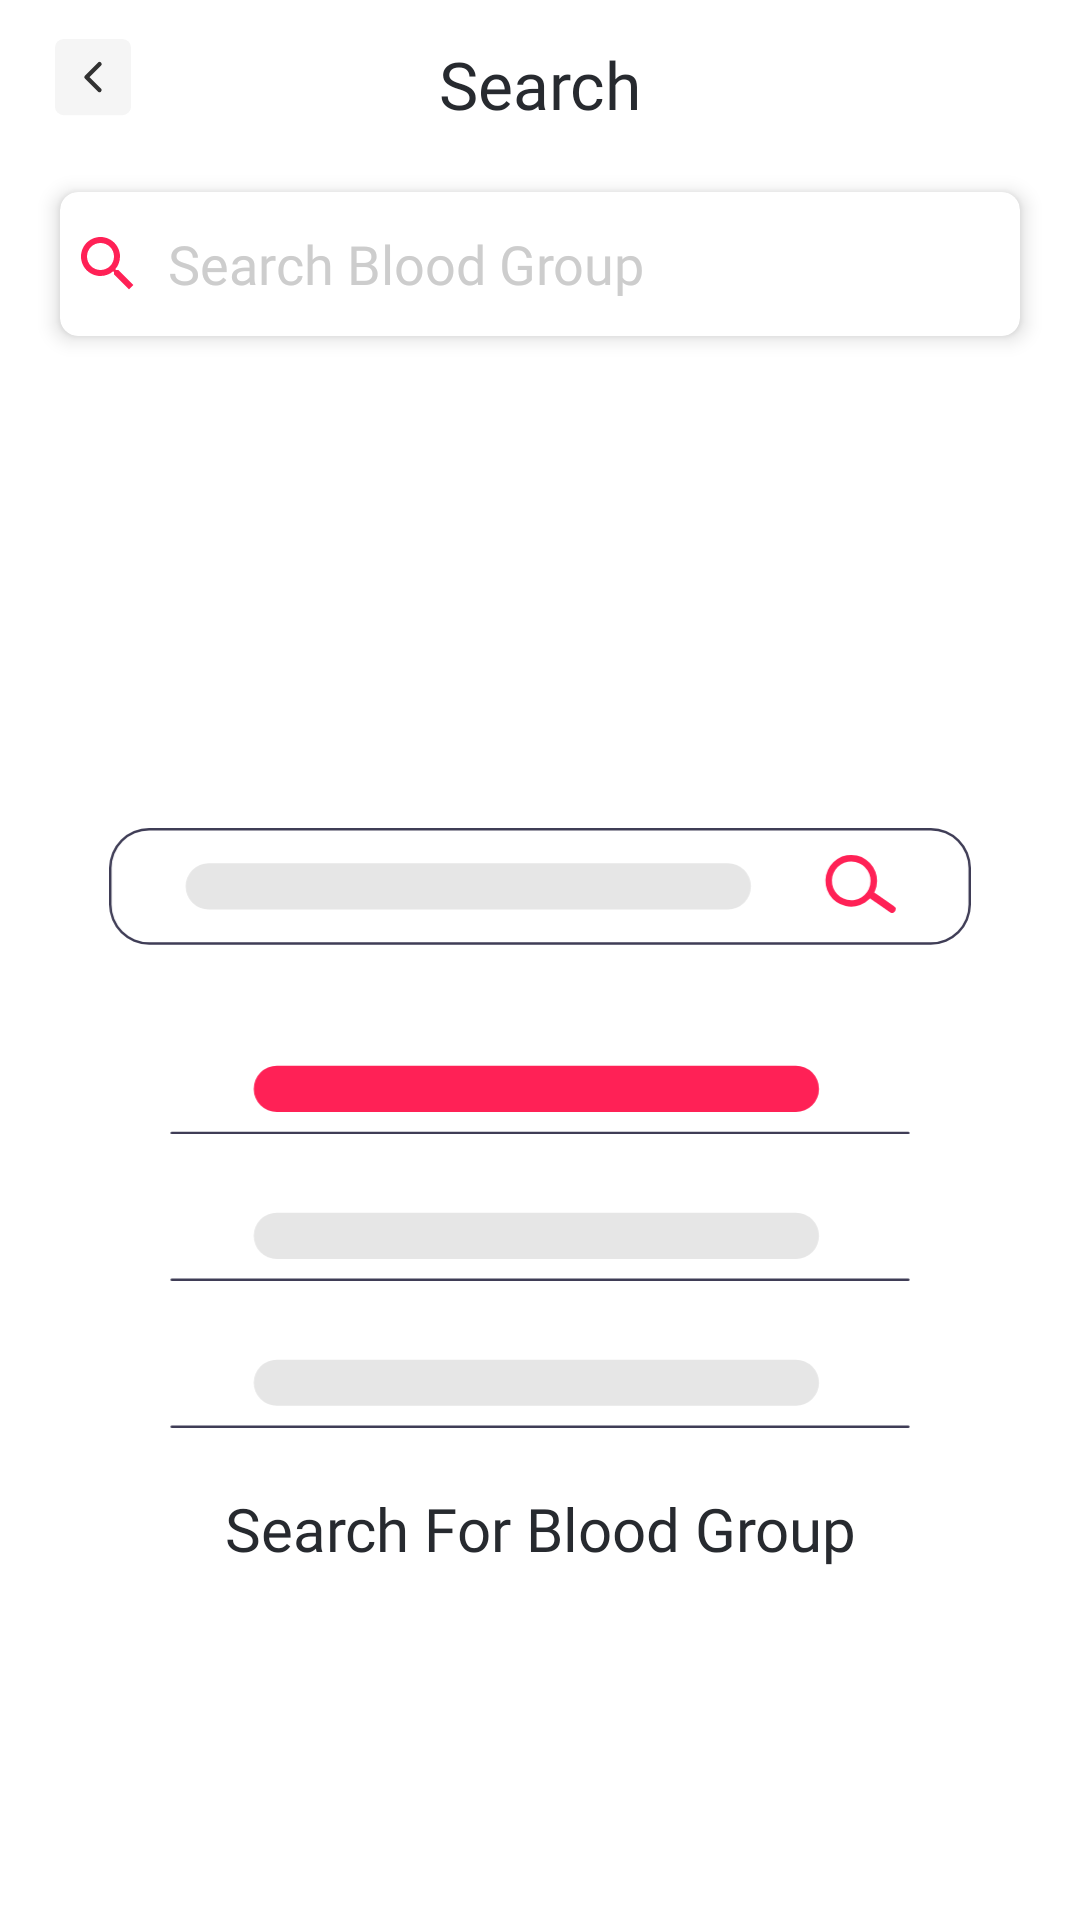

Icons on this 1080x1920 Android screen, each with its box as Rect(x1, y1, x2, y2):
back arrow: Rect(55, 39, 131, 115)
